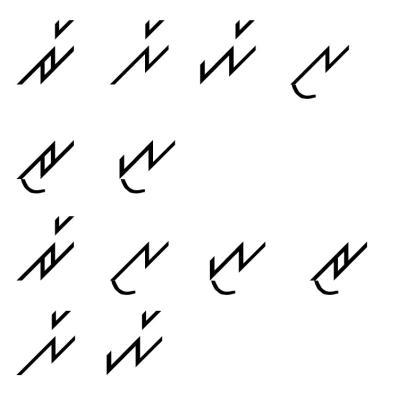lar: (107, 14, 174, 88), (16, 305, 78, 379)
law: (283, 34, 352, 105), (106, 231, 173, 296)
rar: (14, 211, 84, 289), (8, 16, 80, 88)
raw: (299, 235, 376, 297), (7, 136, 80, 196)
yar: (190, 13, 260, 88), (96, 305, 165, 380)
yaw: (108, 125, 179, 201), (204, 228, 266, 303)
